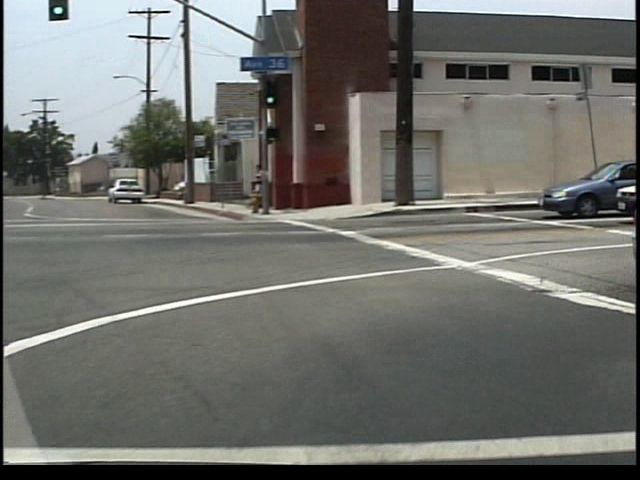person: (258, 165, 276, 215)
